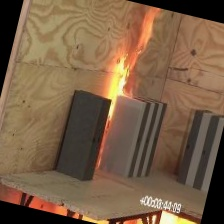fire: (97, 0, 164, 116)
